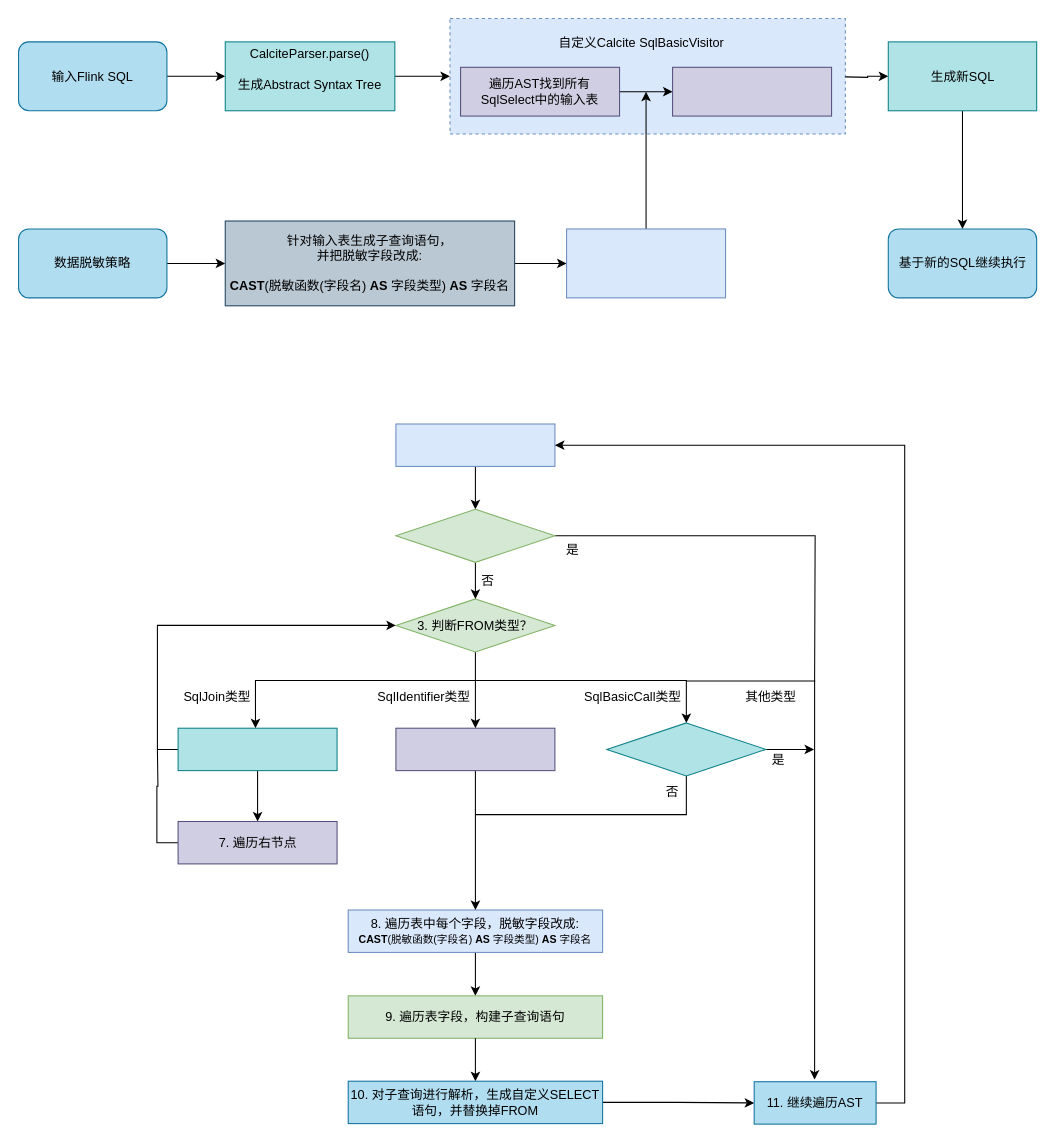
Image size: 1056x1143. Some labels were removed from this diagram. Each missing label, with the box of its shape:
1. 遍历AST中的 SELECT语句: (395, 423, 555, 466)
2. 自定义 SELECT语句？: (395, 508, 555, 562)
4. 遍历左节点: (177, 727, 337, 771)
5. 用表名作为别名: (395, 727, 555, 771)
6. 来自子查询？: (606, 722, 766, 776)
CalciteParser. parseExpression() 子查询生成SqlSelect: (566, 228, 726, 298)
用子查询SqlSelect替换输入表，生成新AST: (672, 66, 832, 116)
